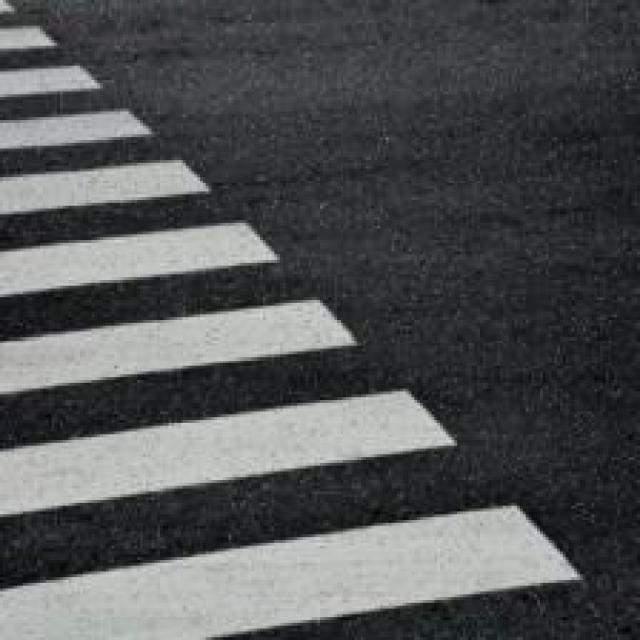crosswalk: (1, 3, 587, 640)
